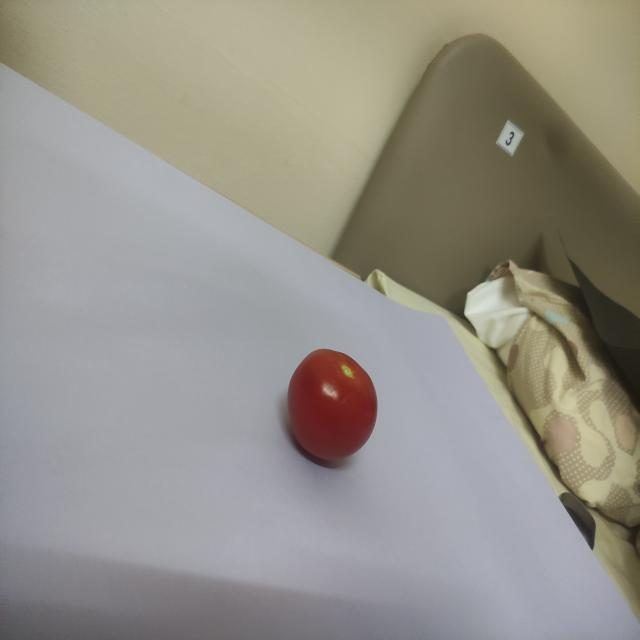kirmizi: (278, 335, 385, 472)
